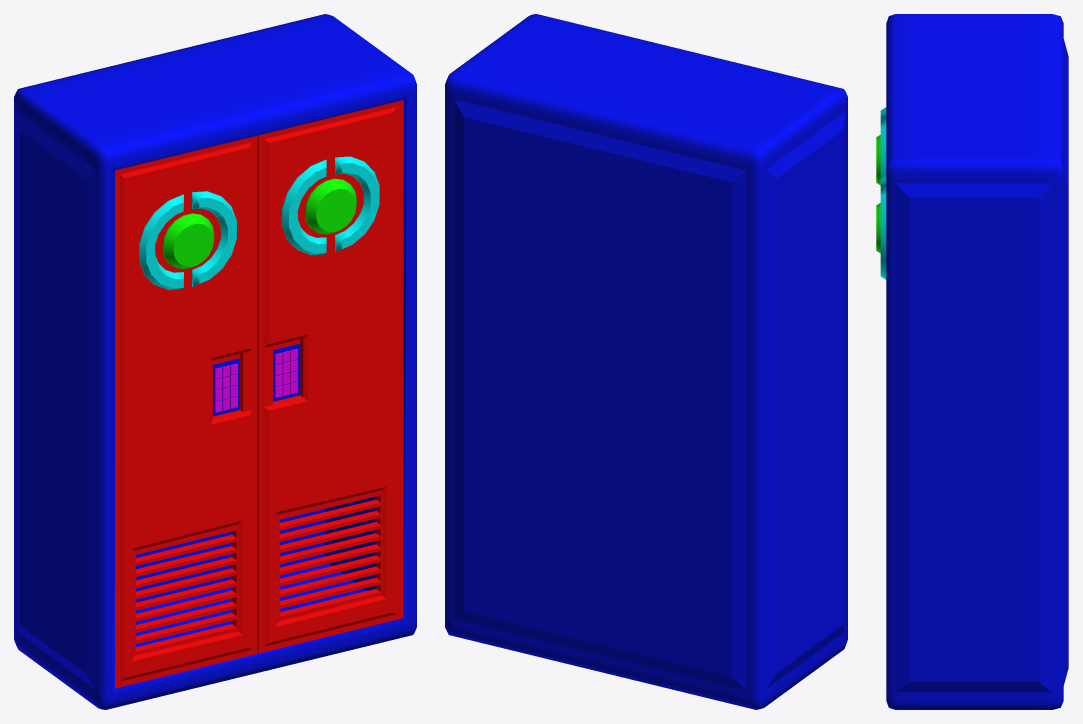
Rendered from SM_BigLocker.FBX.
The picture shows the model from 3 angles, left to right: view 1: azimuth 30°, elevation 25°; view 2: azimuth 150°, elevation 25°; view 3: azimuth 270°, elevation 25°; orthographic projection. The views are drawn at different scales.
Parts seen in each view (by area): view 1: Object001; view 2: Object001; view 3: Object001.
Boxes of the visible parts, bbox=[...] form: Object001: bbox=[14, 14, 416, 709]; Object001: bbox=[445, 14, 847, 709]; Object001: bbox=[876, 14, 1068, 709].
Bounding box in the file's own units: 122 × 200 × 63.41.
